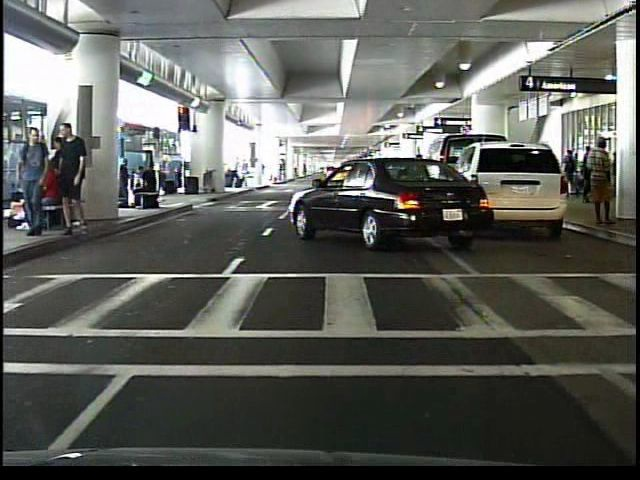person: (585, 134, 618, 230), (126, 162, 159, 212), (561, 143, 580, 187)
